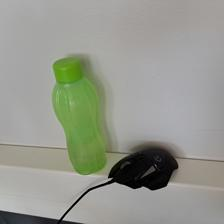bottle: (50, 55, 107, 176)
mouse: (106, 145, 179, 190)
